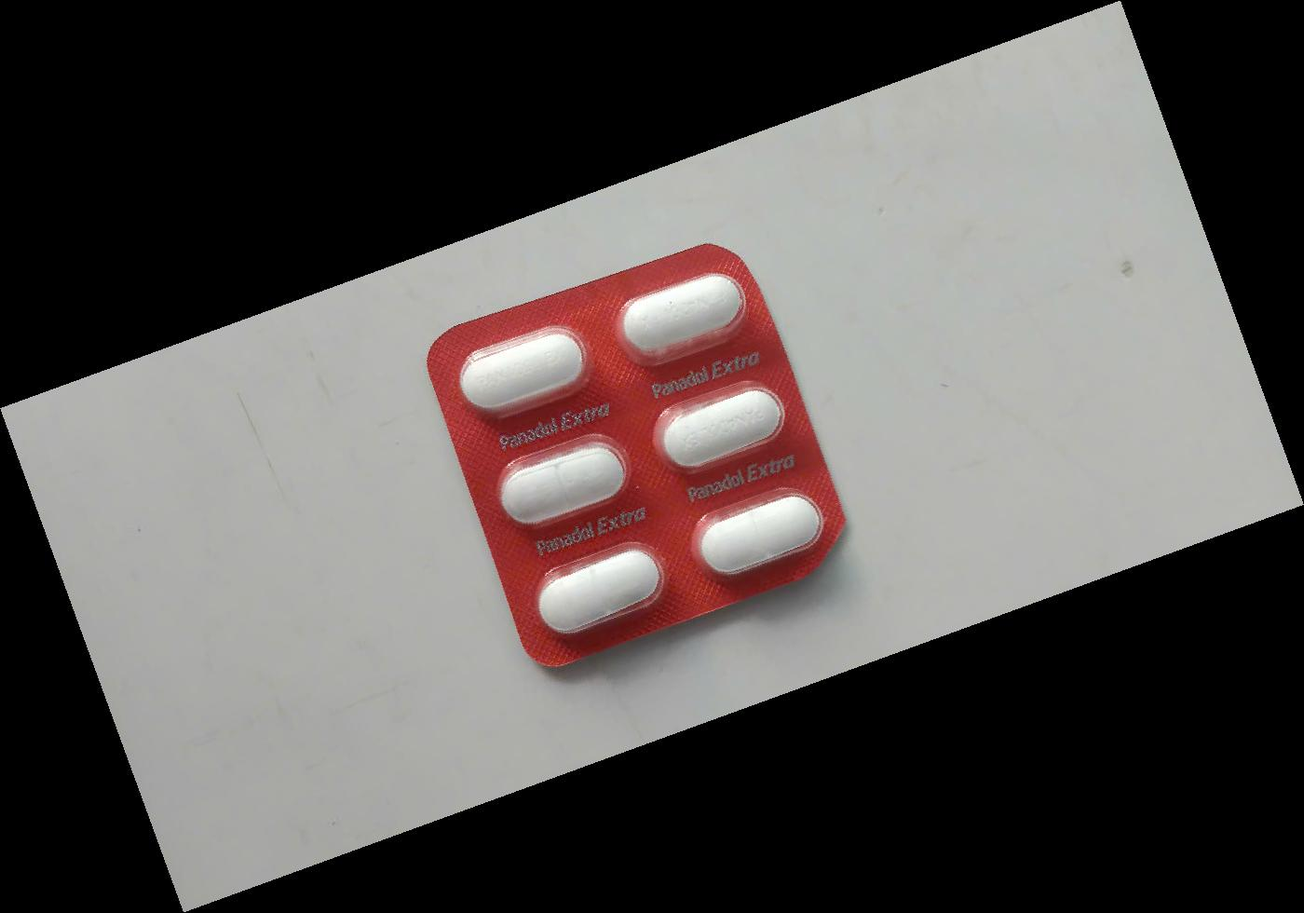Full: (602, 261, 762, 376), (518, 533, 677, 648), (677, 475, 836, 590), (485, 428, 645, 542), (447, 315, 606, 429), (641, 371, 800, 485)
